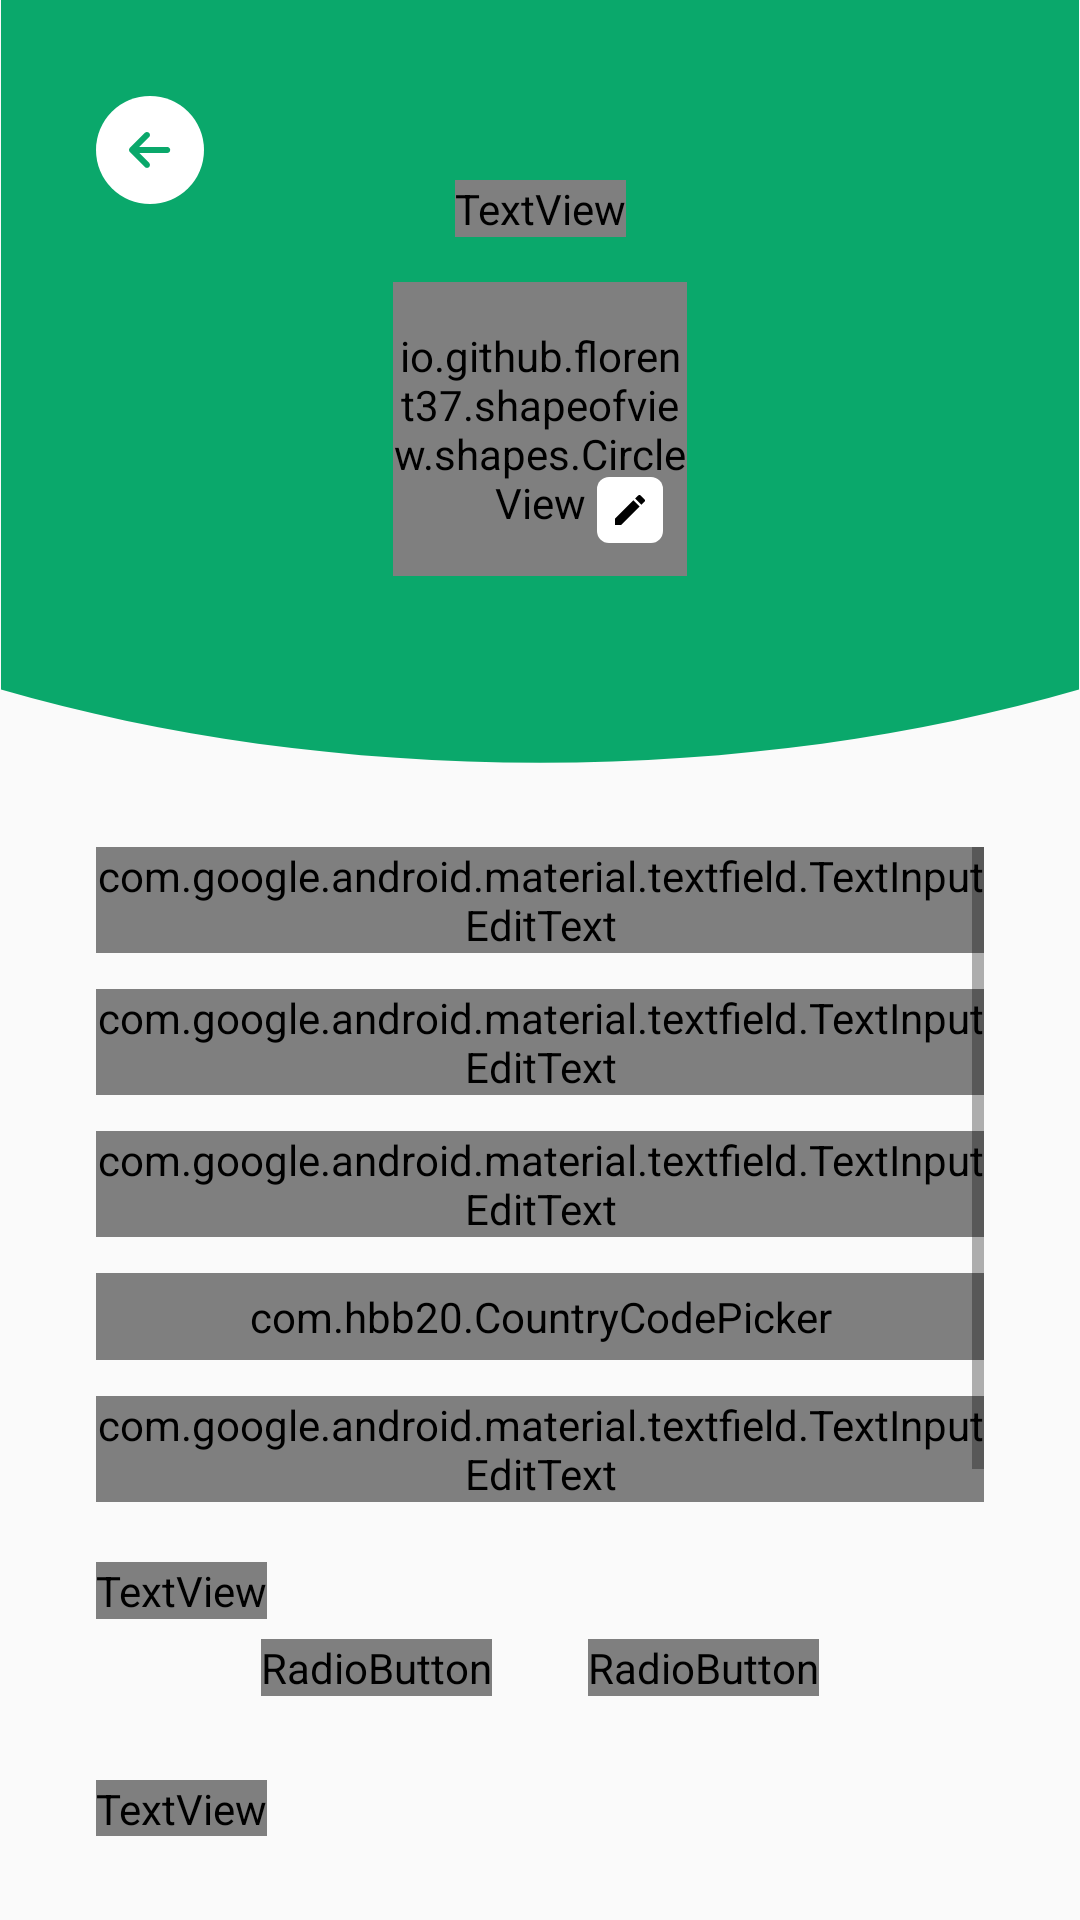

Icons on this 1080 x 1920 Android screen, each with its box as box(x1, y1, x2, y2):
kembali bgputih: box(96, 96, 204, 204)
pencil: box(597, 477, 663, 543)
